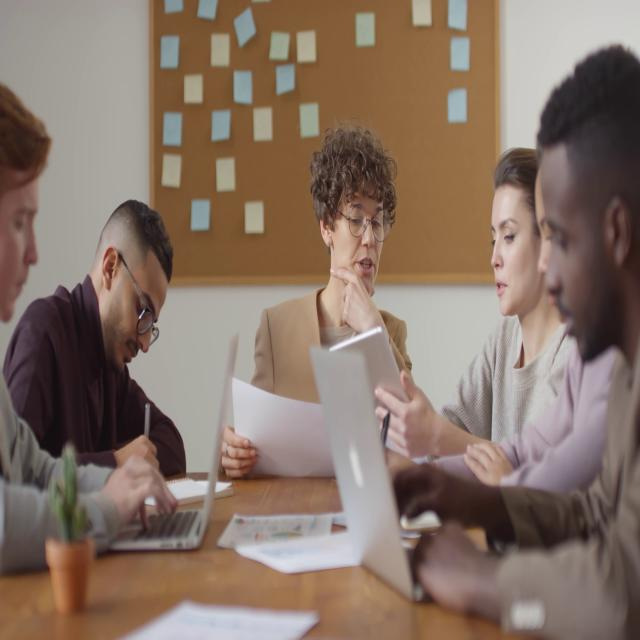not-gloved: (103, 452, 178, 532), (373, 368, 438, 460), (329, 264, 376, 334), (464, 439, 514, 486), (220, 424, 259, 480)
